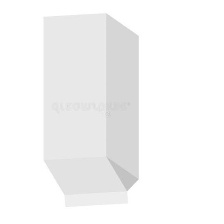carton: (30, 9, 148, 211)
